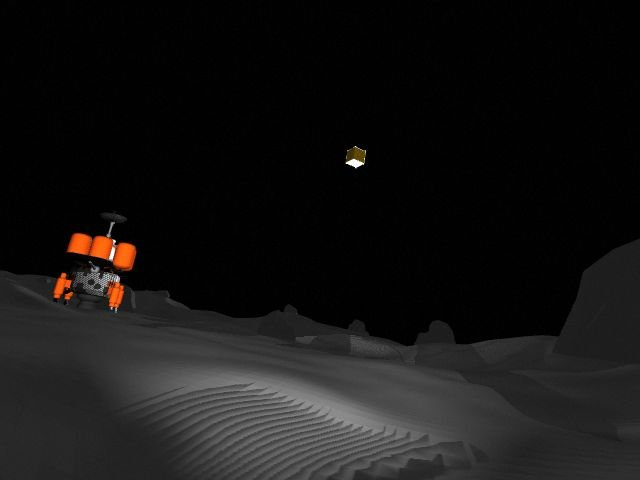homebase: (50, 207, 141, 317)
